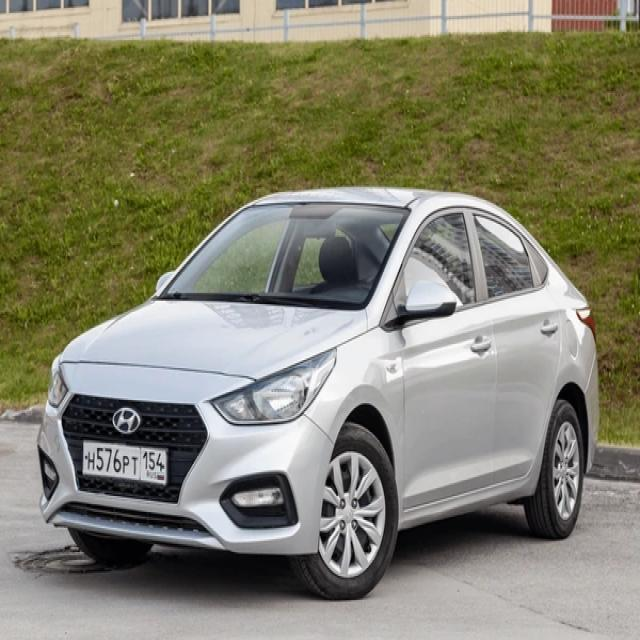hyundai: (112, 408, 143, 433)
